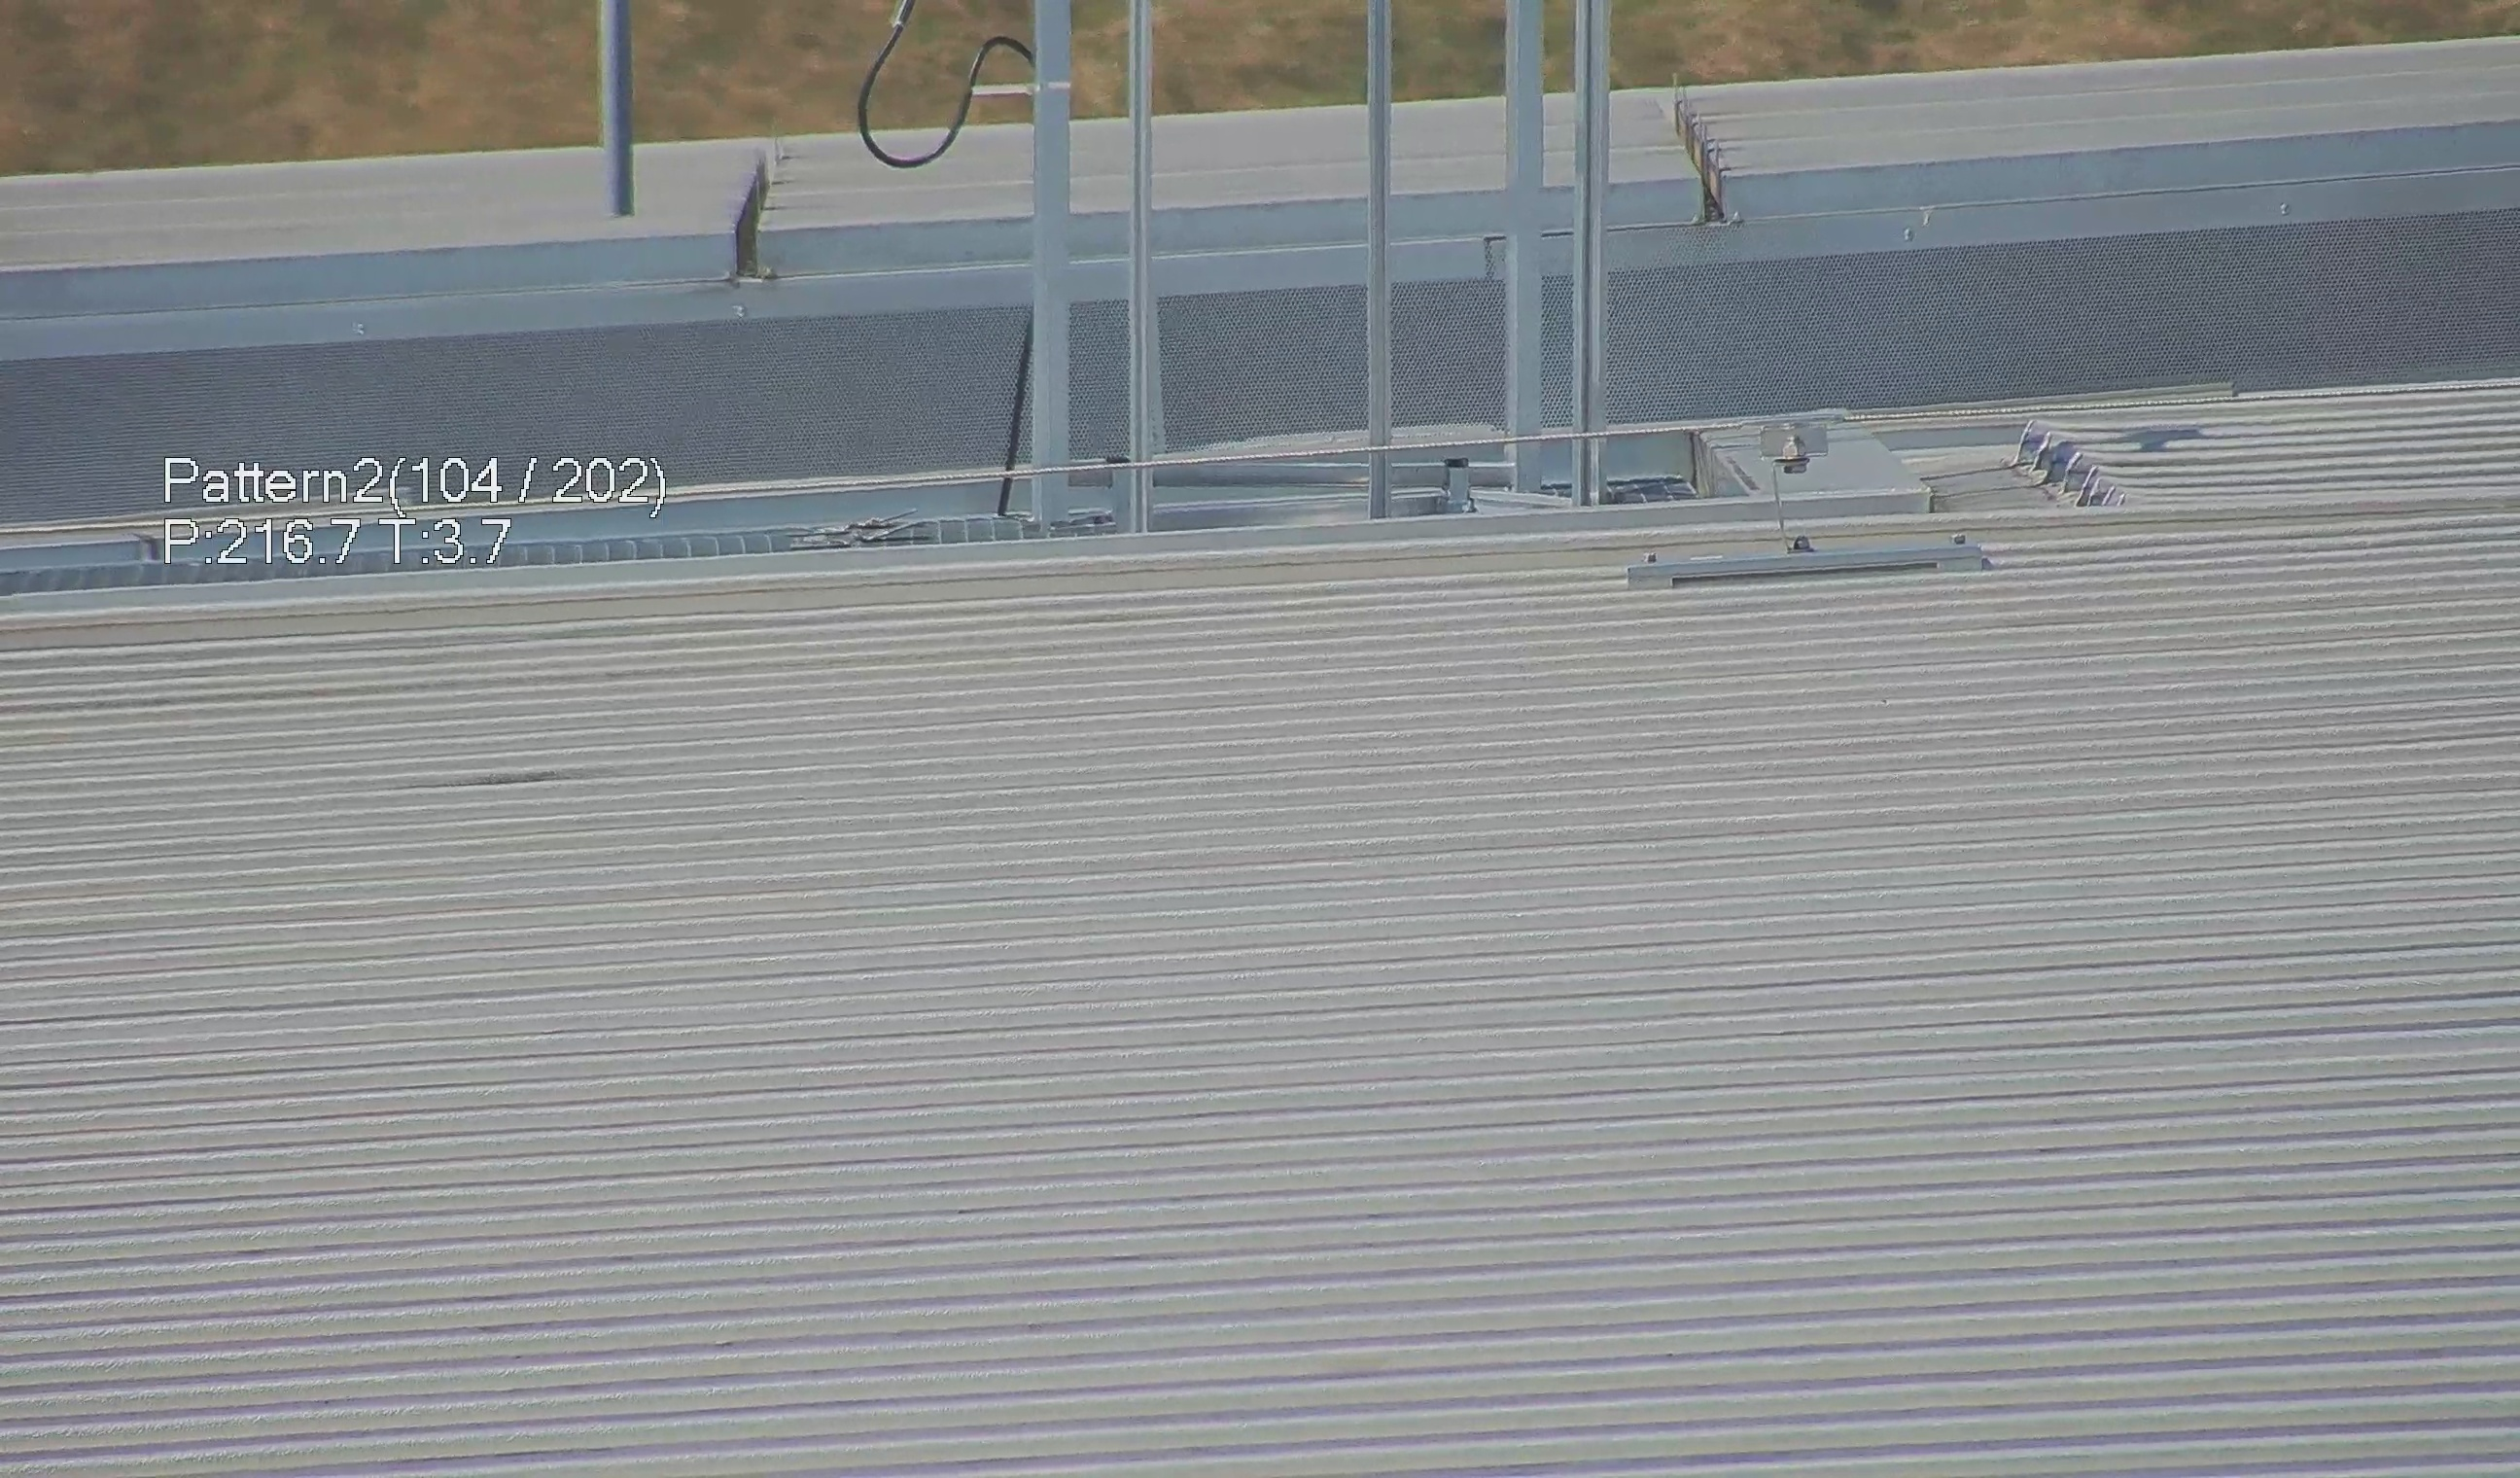Other: (714, 141, 779, 282)
